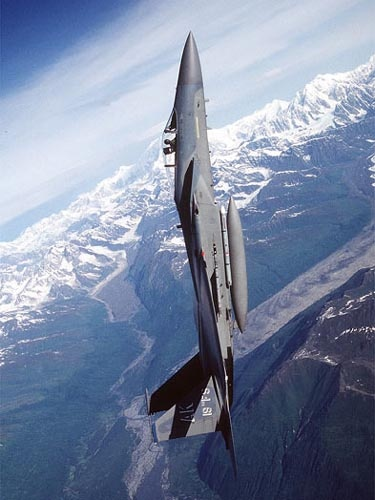airplane: (128, 27, 270, 458)
